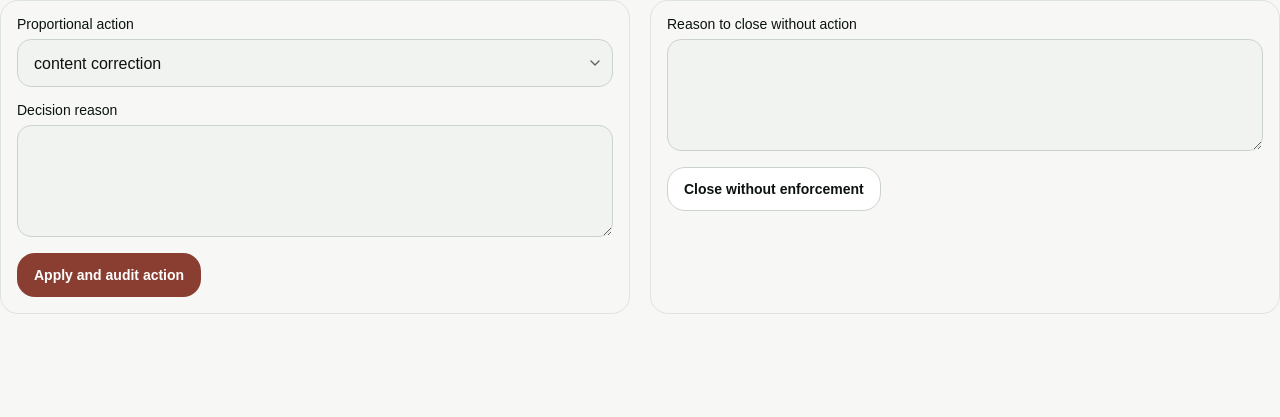
moderation controls › offers only target-compatible actions and reveals a labelled duration for timed actions
Select "temporary suspension" in the dropdown labelled "Proportional action" at (315, 63), box [17, 39, 613, 87]
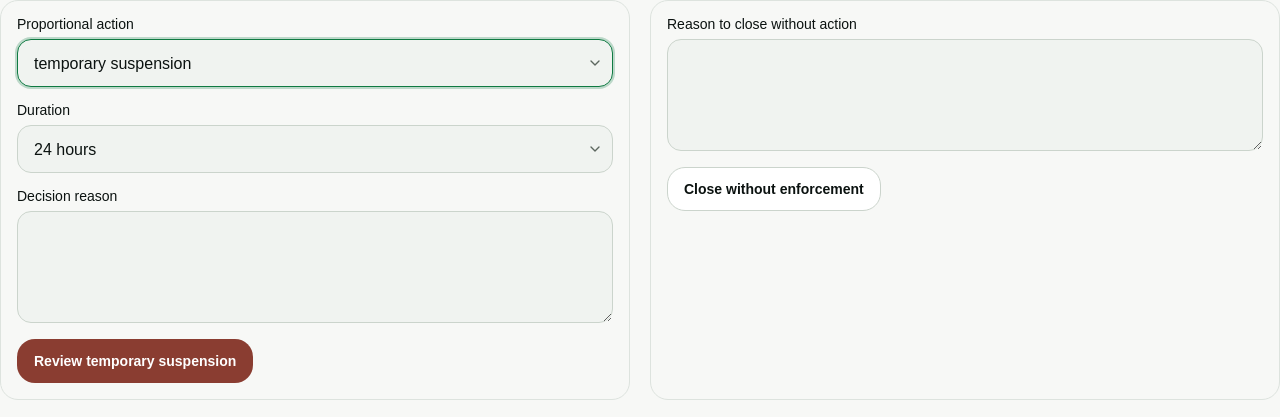
Result: the dropdown labelled "Duration" shows "24 hours" at [17, 125, 613, 173]
